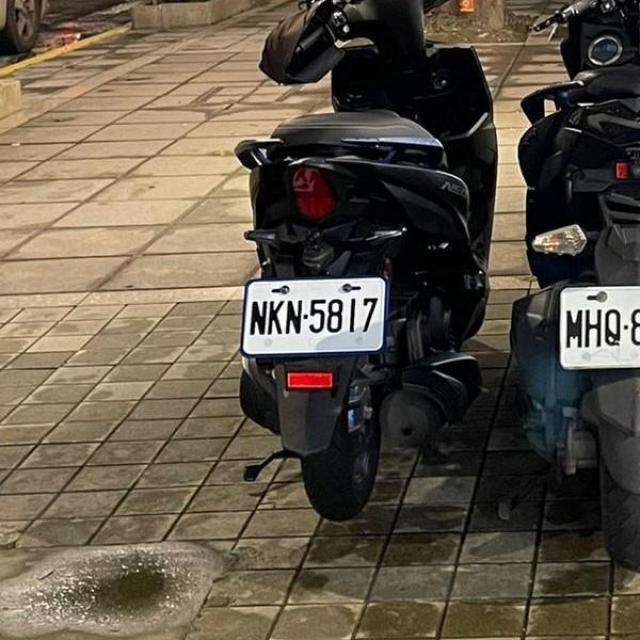W: (237, 272, 392, 359), (551, 282, 640, 374)
